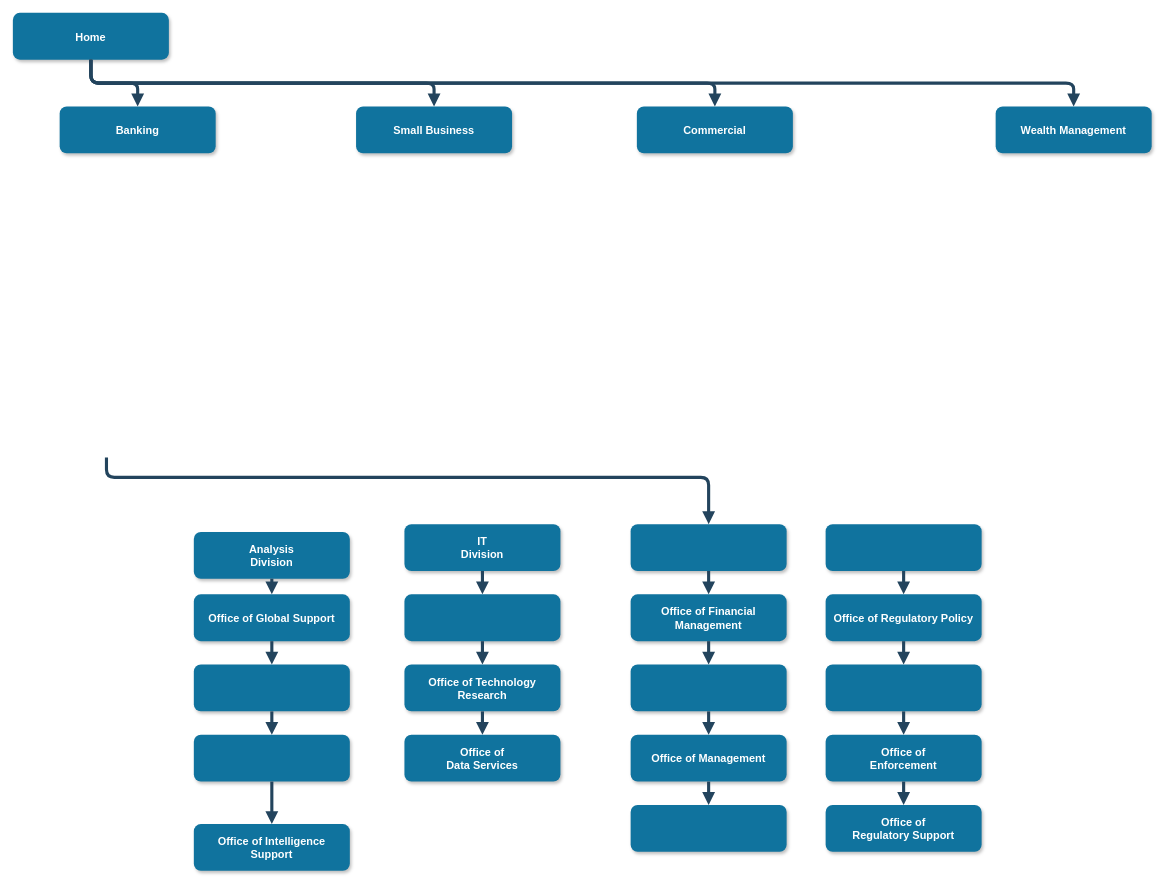
Some shapes in this 1165 by 884 pixel diagram are drawn without their labels. The centre of each missing label's shape, as x and y in pixels:
Database Administration: the point at 483,618
Department of Heuristic Support: the point at 272,759
Management Programs Division: the point at 709,548
Office Compliance: the point at 904,688
Office of Backtrack Analysis: the point at 272,688
Office of Human Resources: the point at 709,688
Office of Training Services: the point at 709,829
Regulatory and Enforcement Division: the point at 904,548
